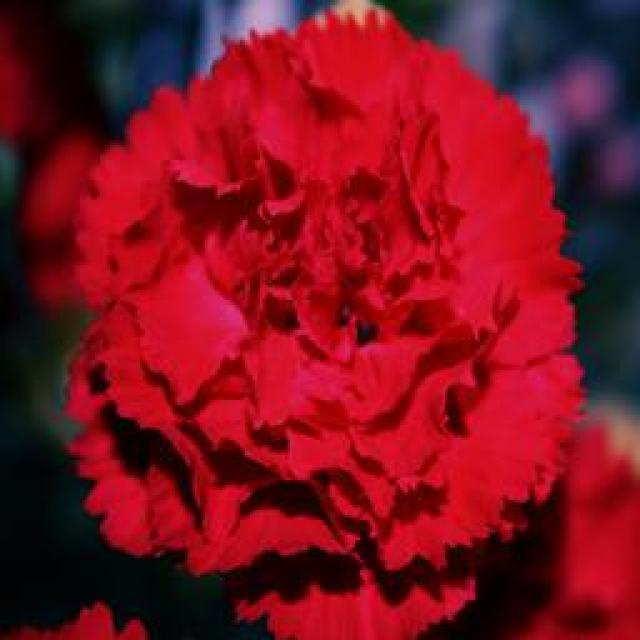carnation: (58, 6, 622, 629)
